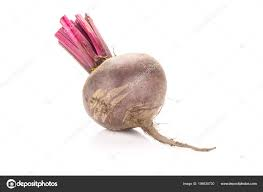beet: (56, 14, 216, 151)
